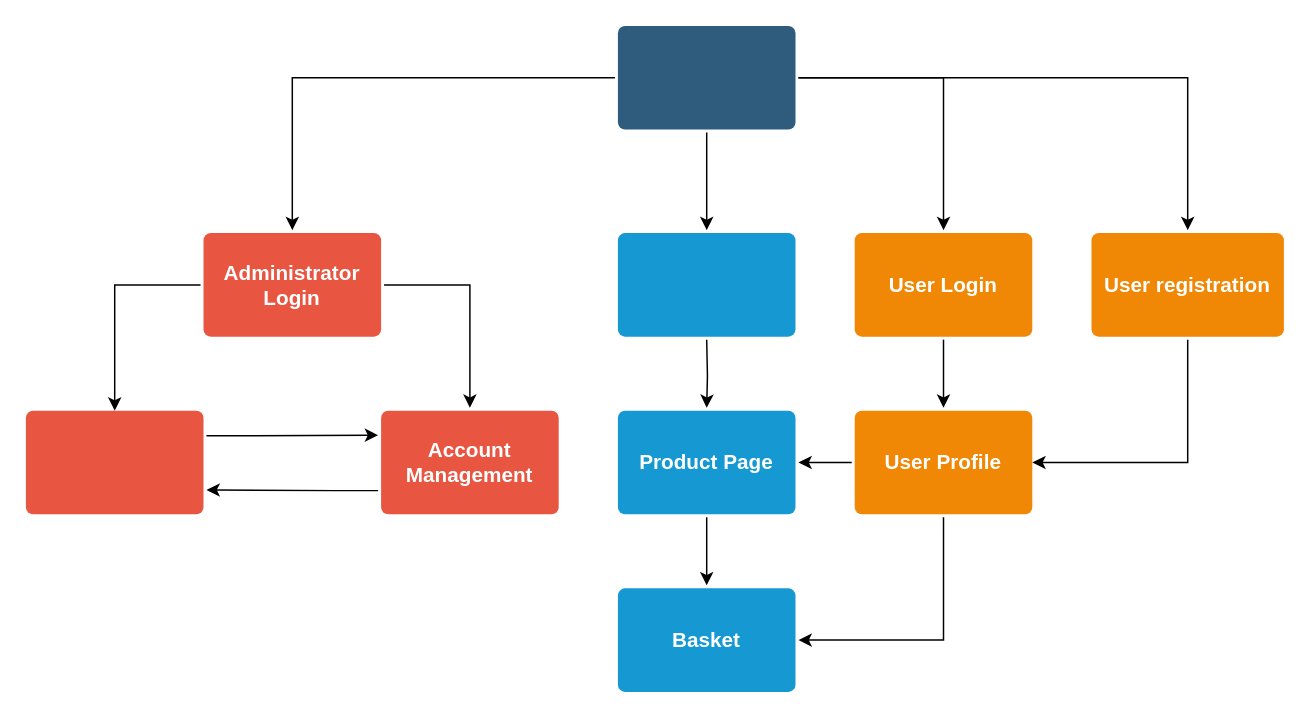
Image size: 1308x716. Some labels were removed from this diagram. Here are the shapes that lost their labels. From the top down, the centre of each, then its label:
point (706, 77): Homepage
point (706, 284): Search Results
point (114, 462): Content Management
